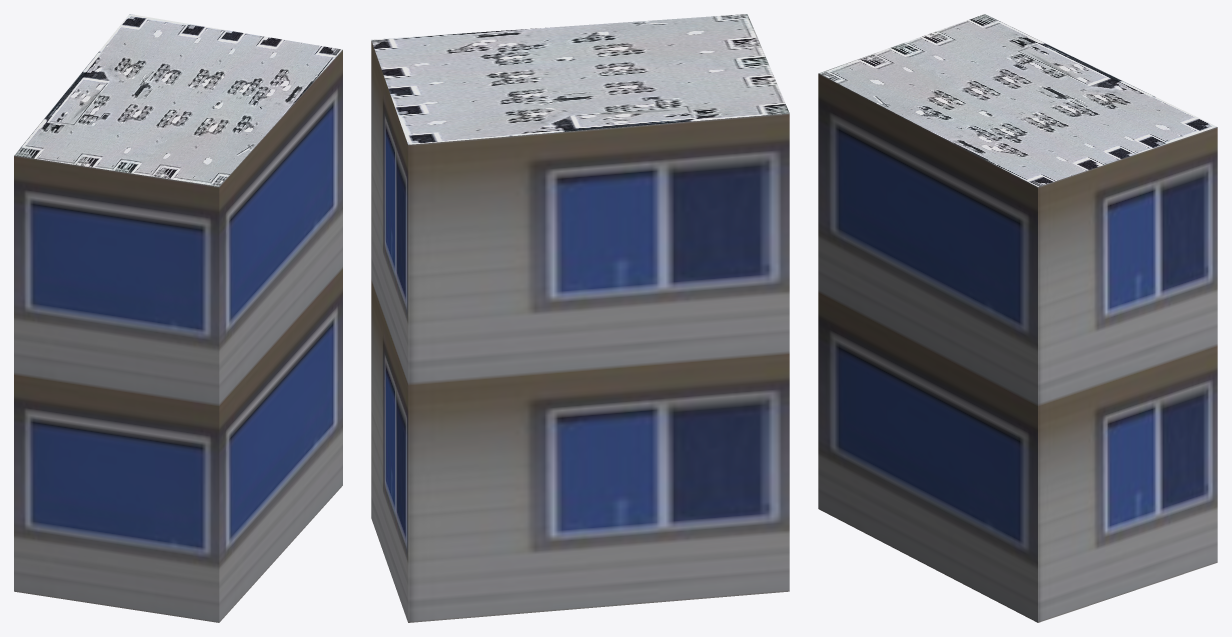
The model's file is ResTex__4535.fbx.
3 renders of one model, left to right at view 1: azimuth 30°, elevation 25°; view 2: azimuth 150°, elevation 25°; view 3: azimuth 270°, elevation 25°, orthographic. The views are drawn at different scales.
Parts seen in each view (by area): view 1: CityEngineMaterial_23_m, CityEngineMaterial_8_m; view 2: CityEngineMaterial_23_m, CityEngineMaterial_8_m; view 3: CityEngineMaterial_23_m, CityEngineMaterial_8_m.
Boxes of the visible parts, x1,y1,x2,y2 form: CityEngineMaterial_23_m: [14, 50, 342, 622]; CityEngineMaterial_8_m: [14, 14, 342, 186]; CityEngineMaterial_23_m: [371, 41, 789, 622]; CityEngineMaterial_8_m: [371, 14, 789, 144]; CityEngineMaterial_23_m: [818, 73, 1217, 622]; CityEngineMaterial_8_m: [819, 14, 1216, 186].
Size of the model in its own units: 5.12 by 6 by 4.98.
Materials: 2 (2 with a texture image).
